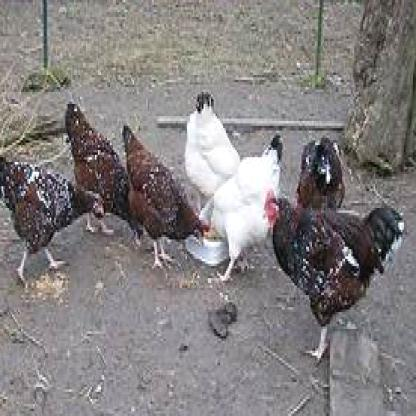chicken: (262, 191, 406, 368), (196, 136, 288, 298), (1, 150, 106, 288), (122, 121, 210, 273), (63, 99, 143, 254)
